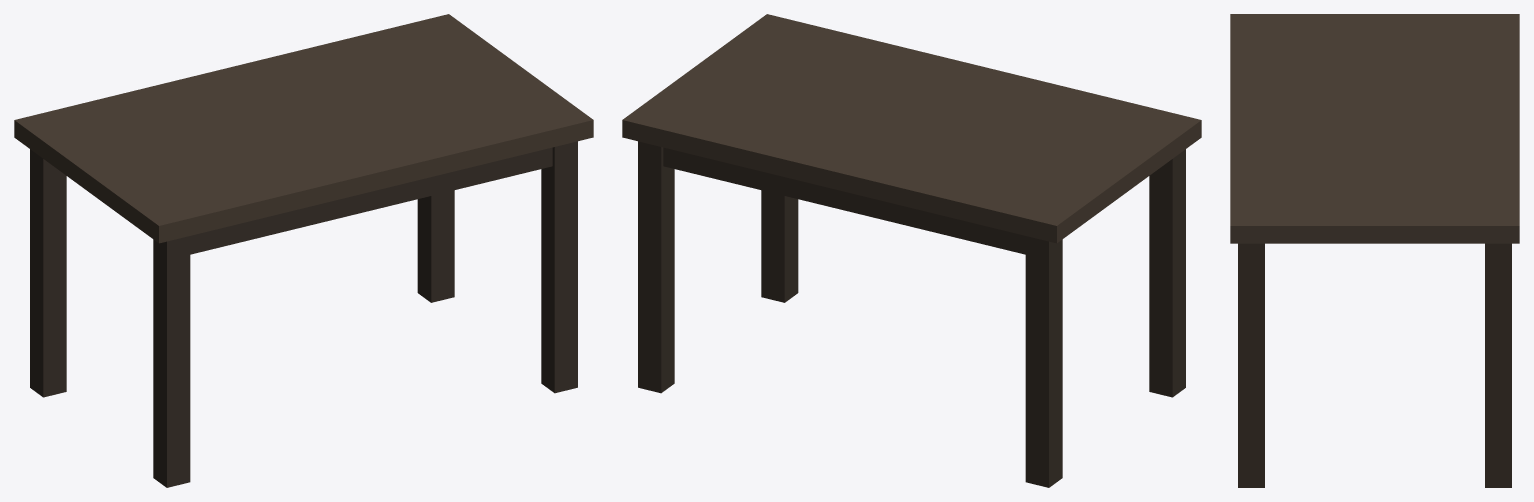
File: table_noir.glb
3 views of the same model, side by side, from view 1: azimuth 30°, elevation 25°; view 2: azimuth 150°, elevation 25°; view 3: azimuth 270°, elevation 25° (orthographic).
Visible parts, largest first — view 1: table_noir; view 2: table_noir; view 3: table_noir.
Boxes of the visible parts, x1=… form: table_noir: x1=14, y1=14, x2=593, y2=487; table_noir: x1=622, y1=14, x2=1201, y2=487; table_noir: x1=1230, y1=14, x2=1519, y2=487.
Bounding box in the file's own units: 1.3 × 0.765 × 0.75.
